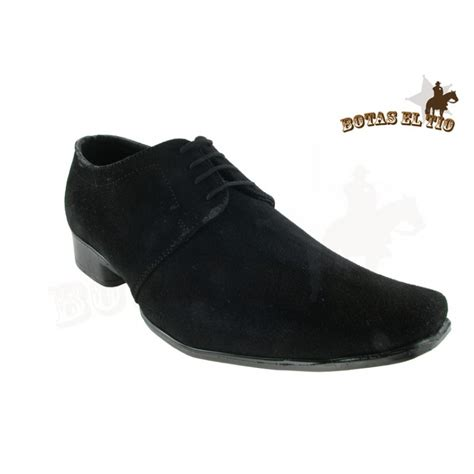gamuza: (64, 134, 449, 363)
